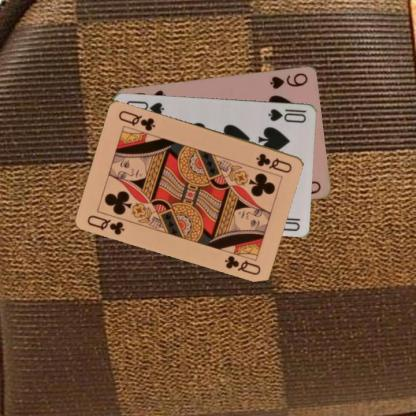10s: (266, 107, 307, 124)
9s: (268, 70, 309, 90)
Qc: (85, 212, 126, 236), (254, 150, 294, 174)
